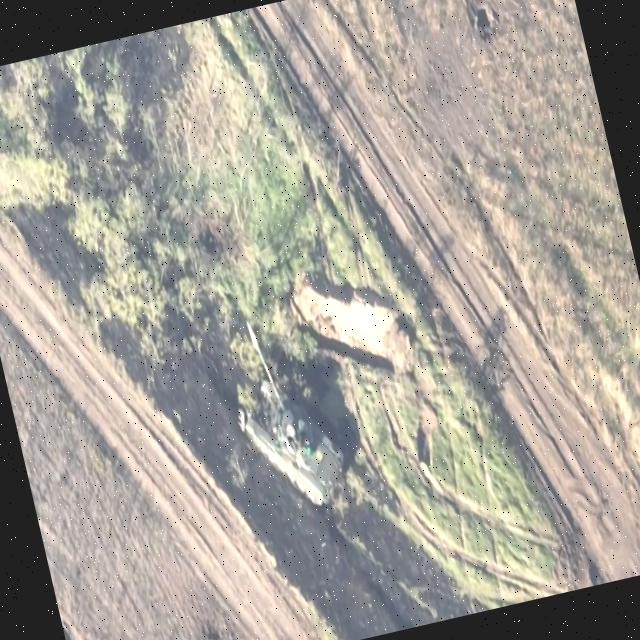MBT: (222, 302, 357, 521)
